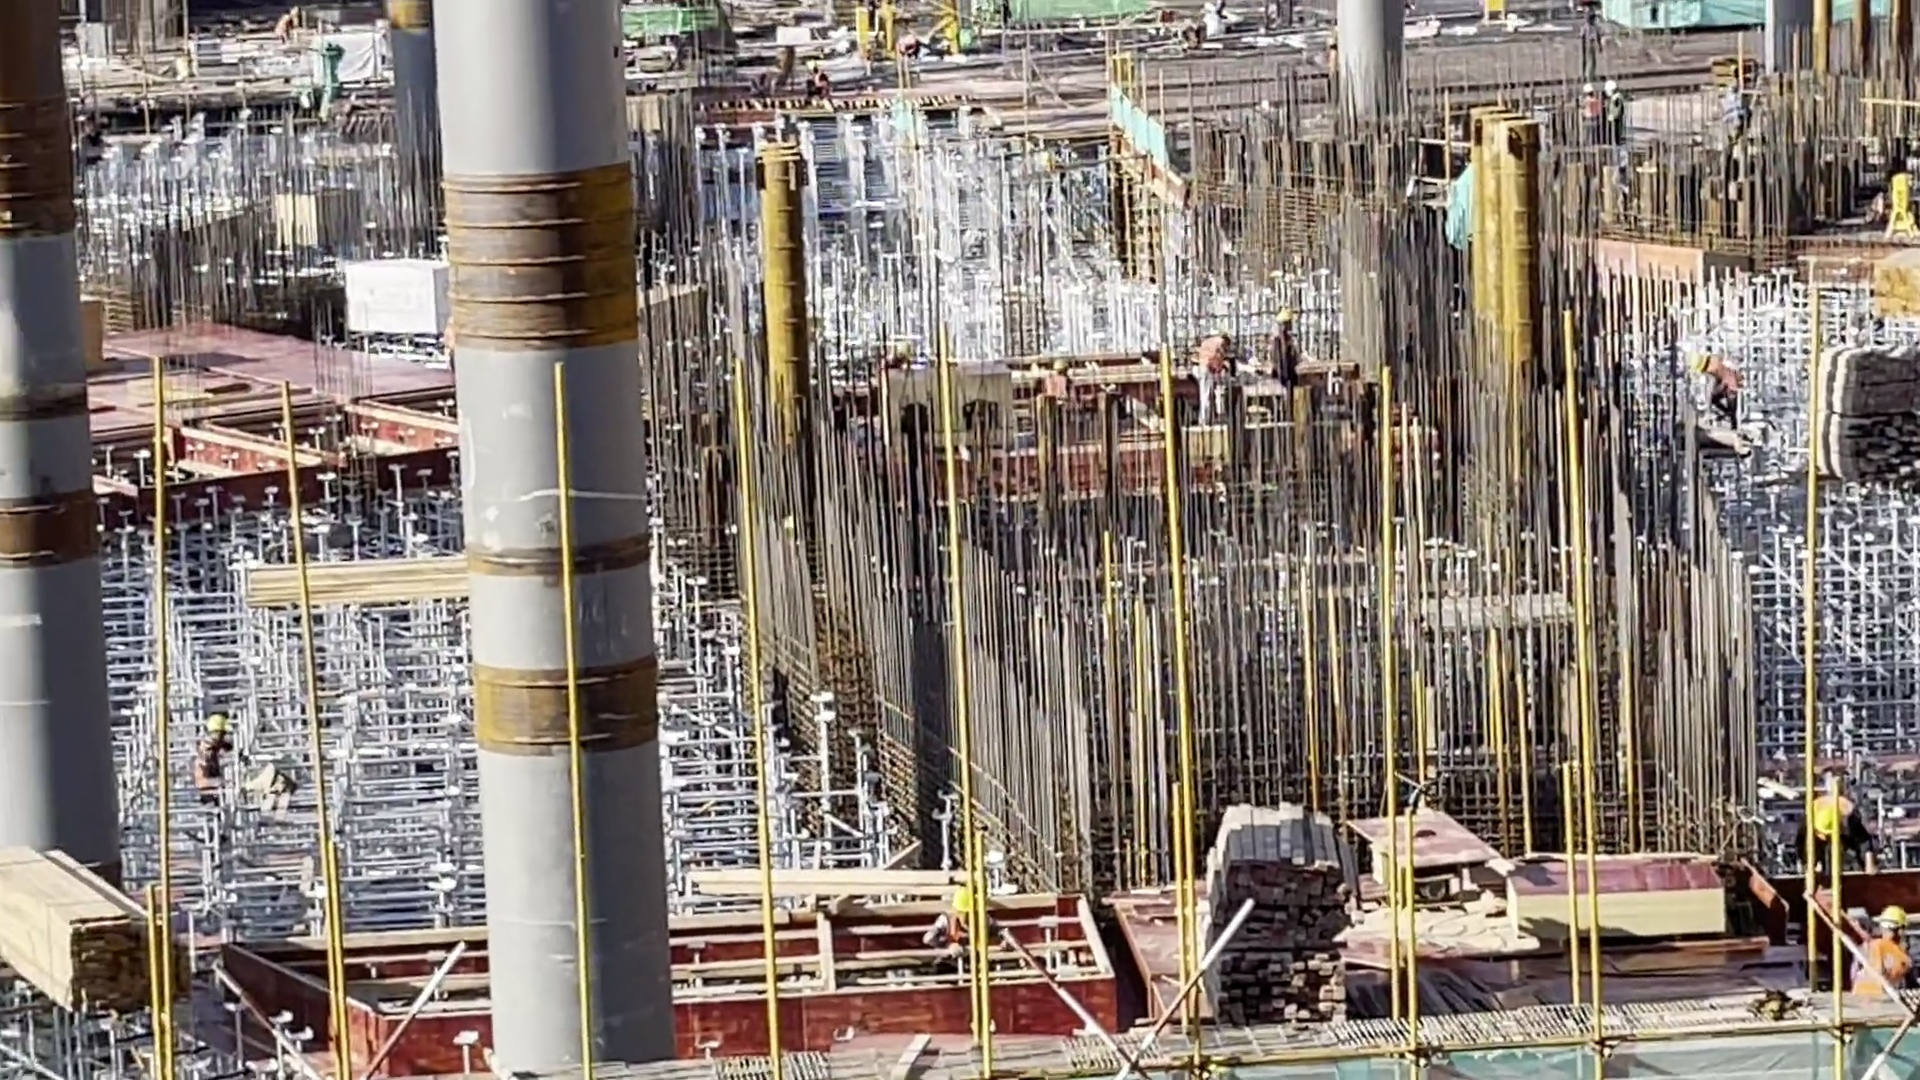helmet: (1870, 895, 1908, 934), (1811, 798, 1838, 839), (944, 887, 978, 915)
person: (1840, 887, 1918, 1004), (1808, 767, 1891, 876), (906, 878, 988, 956)
vest: (1849, 931, 1906, 1004)
wood: (1189, 775, 1375, 1046)
